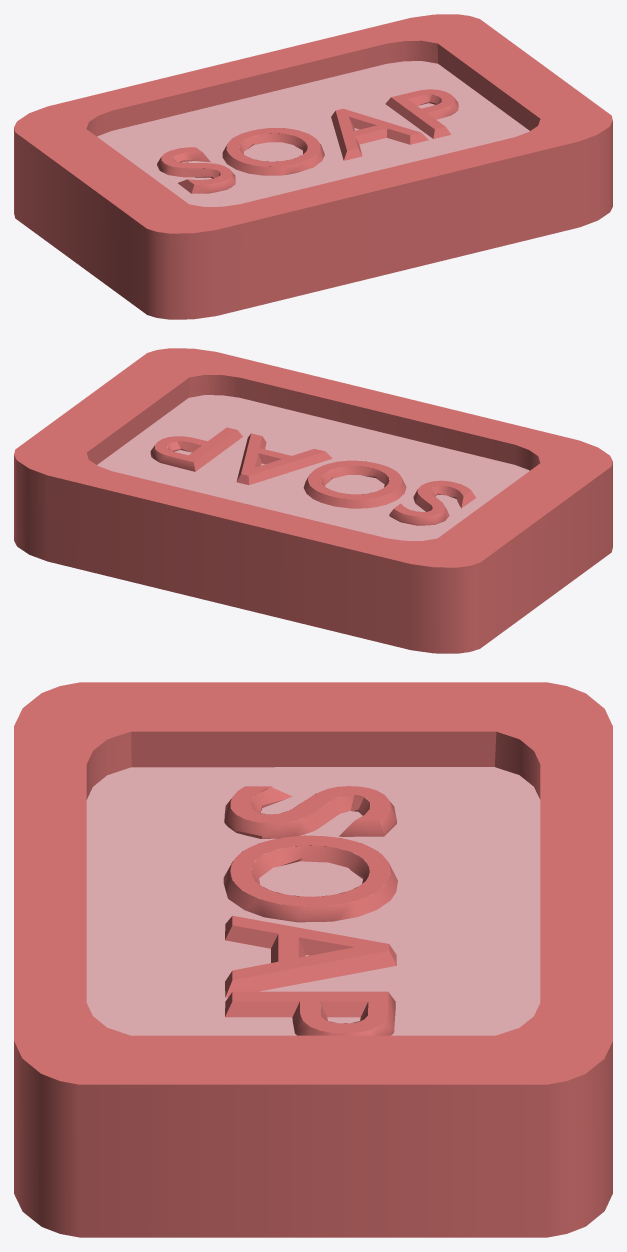
Rendered from Soap.fbx.
3 views of the same model, one above another, from view 1: azimuth 30°, elevation 25°; view 2: azimuth 150°, elevation 25°; view 3: azimuth 270°, elevation 25° (orthographic). The views are drawn at different scales.
Parts seen in each view (by area): view 1: Soap; view 2: Soap; view 3: Soap.
Part boxes in pixels (box(x1,y1,x2,y2)): Soap: box(14, 14, 612, 319); Soap: box(14, 348, 612, 653); Soap: box(14, 682, 612, 1237).
Bounding box in the file's own units: 164 × 29.08 × 103.
